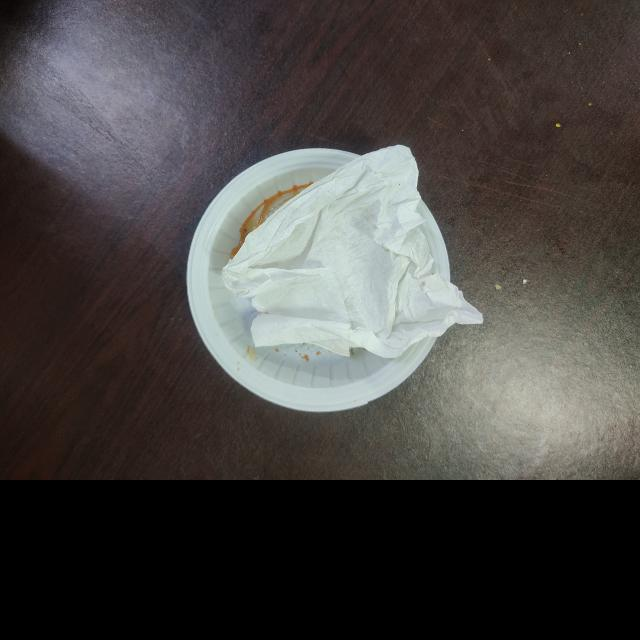kitchen paper: (217, 145, 484, 359)
